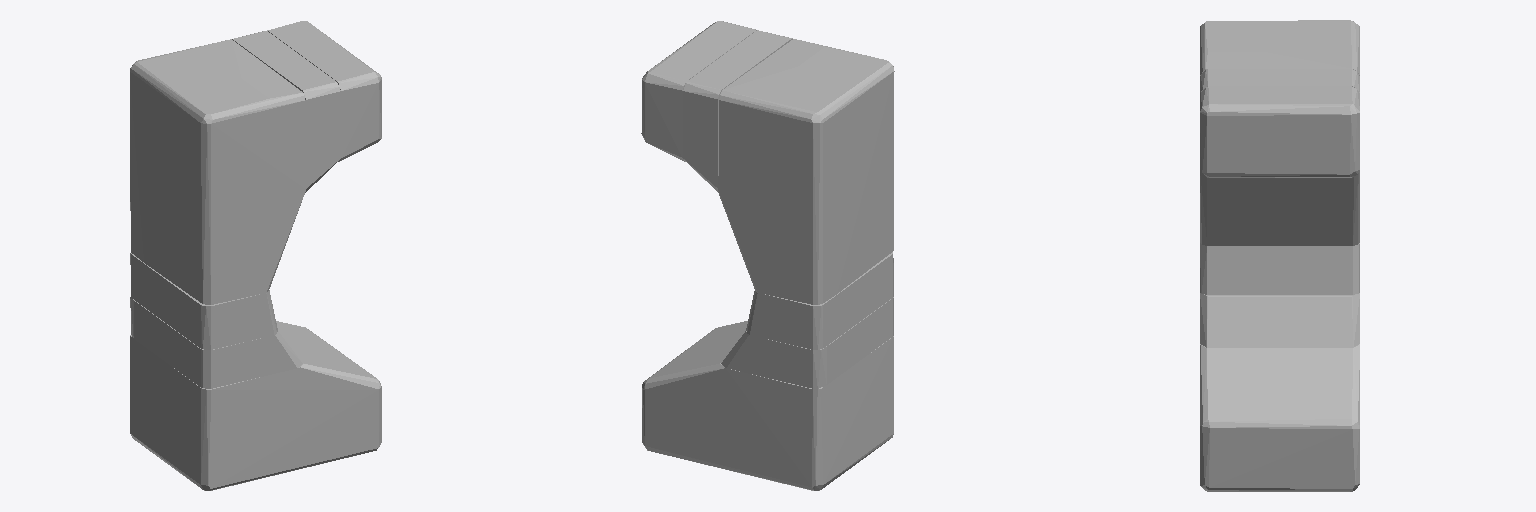
robot.urdf — root:
<robot name="root">
  <link name="link_Bridge_convex_piece_0">
    <inertial>
      <origin xyz="0 0 0" rpy="0 0 0"/>
      <mass value="1.79E-02"/>
      <inertia ixx="6.03E-05" ixy="-7.40E-09" ixz="-3.32E-05" iyy="7.66E-05" iyz="-1.17E-08" izz="2.42E-05"/>
    </inertial>
    <visual>
      <origin xyz="0 0 0" rpy="0 0 0"/>
      <geometry>
        <mesh filename="Bridge_convex_piece_0.obj" scale="1.0000E+00 1.0000E+00 1.0000E+00"/>
      </geometry>
      <material name="">
        <color rgba="7.50E-01 7.50E-01 7.50E-01 1"/>
      </material>
    </visual>
    <collision>
      <origin xyz="0 0 0" rpy="0 0 0"/>
      <geometry>
        <mesh filename="Bridge_convex_piece_0.obj" scale="1.0000E+00 1.0000E+00 1.0000E+00"/>
      </geometry>
    </collision>
  </link>
  <link name="link_Bridge_convex_piece_1">
    <inertial>
      <origin xyz="0 0 0" rpy="0 0 0"/>
      <mass value="1.76E-02"/>
      <inertia ixx="5.33E-05" ixy="2.57E-10" ixz="-1.66E-05" iyy="5.54E-05" iyz="-5.81E-10" izz="9.88E-06"/>
    </inertial>
    <visual>
      <origin xyz="0 0 0" rpy="0 0 0"/>
      <geometry>
        <mesh filename="Bridge_convex_piece_1.obj" scale="1.0000E+00 1.0000E+00 1.0000E+00"/>
      </geometry>
      <material name="">
        <color rgba="7.50E-01 7.50E-01 7.50E-01 1"/>
      </material>
    </visual>
    <collision>
      <origin xyz="0 0 0" rpy="0 0 0"/>
      <geometry>
        <mesh filename="Bridge_convex_piece_1.obj" scale="1.0000E+00 1.0000E+00 1.0000E+00"/>
      </geometry>
    </collision>
  </link>
  <joint name="link_Bridge_convex_piece_1_joint" type="fixed">
    <origin xyz="0 0 0" rpy="0 0 0"/>
    <parent link="link_Bridge_convex_piece_0"/>
    <child link="link_Bridge_convex_piece_1"/>
  </joint>
  <link name="link_Bridge_convex_piece_2">
    <inertial>
      <origin xyz="0 0 0" rpy="0 0 0"/>
      <mass value="1.73E-02"/>
      <inertia ixx="5.53E-06" ixy="1.62E-10" ixz="-1.97E-06" iyy="5.88E-06" iyz="1.16E-09" izz="8.05E-06"/>
    </inertial>
    <visual>
      <origin xyz="0 0 0" rpy="0 0 0"/>
      <geometry>
        <mesh filename="Bridge_convex_piece_2.obj" scale="1.0000E+00 1.0000E+00 1.0000E+00"/>
      </geometry>
      <material name="">
        <color rgba="7.50E-01 7.50E-01 7.50E-01 1"/>
      </material>
    </visual>
    <collision>
      <origin xyz="0 0 0" rpy="0 0 0"/>
      <geometry>
        <mesh filename="Bridge_convex_piece_2.obj" scale="1.0000E+00 1.0000E+00 1.0000E+00"/>
      </geometry>
    </collision>
  </link>
  <joint name="link_Bridge_convex_piece_2_joint" type="fixed">
    <origin xyz="0 0 0" rpy="0 0 0"/>
    <parent link="link_Bridge_convex_piece_1"/>
    <child link="link_Bridge_convex_piece_2"/>
  </joint>
  <link name="link_Bridge_convex_piece_3">
    <inertial>
      <origin xyz="0 0 0" rpy="0 0 0"/>
      <mass value="1.88E-02"/>
      <inertia ixx="1.54E-05" ixy="4.90E-09" ixz="-4.46E-06" iyy="1.50E-05" iyz="5.38E-09" izz="7.98E-06"/>
    </inertial>
    <visual>
      <origin xyz="0 0 0" rpy="0 0 0"/>
      <geometry>
        <mesh filename="Bridge_convex_piece_3.obj" scale="1.0000E+00 1.0000E+00 1.0000E+00"/>
      </geometry>
      <material name="">
        <color rgba="7.50E-01 7.50E-01 7.50E-01 1"/>
      </material>
    </visual>
    <collision>
      <origin xyz="0 0 0" rpy="0 0 0"/>
      <geometry>
        <mesh filename="Bridge_convex_piece_3.obj" scale="1.0000E+00 1.0000E+00 1.0000E+00"/>
      </geometry>
    </collision>
  </link>
  <joint name="link_Bridge_convex_piece_3_joint" type="fixed">
    <origin xyz="0 0 0" rpy="0 0 0"/>
    <parent link="link_Bridge_convex_piece_2"/>
    <child link="link_Bridge_convex_piece_3"/>
  </joint>
  <link name="link_Bridge_convex_piece_4">
    <inertial>
      <origin xyz="0 0 0" rpy="0 0 0"/>
      <mass value="9.74E-02"/>
      <inertia ixx="1.88E-04" ixy="6.24E-08" ixz="2.94E-05" iyy="1.85E-04" iyz="-9.01E-08" izz="4.12E-05"/>
    </inertial>
    <visual>
      <origin xyz="0 0 0" rpy="0 0 0"/>
      <geometry>
        <mesh filename="Bridge_convex_piece_4.obj" scale="1.0000E+00 1.0000E+00 1.0000E+00"/>
      </geometry>
      <material name="">
        <color rgba="7.50E-01 7.50E-01 7.50E-01 1"/>
      </material>
    </visual>
    <collision>
      <origin xyz="0 0 0" rpy="0 0 0"/>
      <geometry>
        <mesh filename="Bridge_convex_piece_4.obj" scale="1.0000E+00 1.0000E+00 1.0000E+00"/>
      </geometry>
    </collision>
  </link>
  <joint name="link_Bridge_convex_piece_4_joint" type="fixed">
    <origin xyz="0 0 0" rpy="0 0 0"/>
    <parent link="link_Bridge_convex_piece_3"/>
    <child link="link_Bridge_convex_piece_4"/>
  </joint>
  <link name="link_Bridge_convex_piece_5">
    <inertial>
      <origin xyz="0 0 0" rpy="0 0 0"/>
      <mass value="9.56E-02"/>
      <inertia ixx="2.84E-04" ixy="-3.62E-08" ixz="2.90E-05" iyy="3.01E-04" iyz="2.95E-07" izz="5.97E-05"/>
    </inertial>
    <visual>
      <origin xyz="0 0 0" rpy="0 0 0"/>
      <geometry>
        <mesh filename="Bridge_convex_piece_5.obj" scale="1.0000E+00 1.0000E+00 1.0000E+00"/>
      </geometry>
      <material name="">
        <color rgba="7.50E-01 7.50E-01 7.50E-01 1"/>
      </material>
    </visual>
    <collision>
      <origin xyz="0 0 0" rpy="0 0 0"/>
      <geometry>
        <mesh filename="Bridge_convex_piece_5.obj" scale="1.0000E+00 1.0000E+00 1.0000E+00"/>
      </geometry>
    </collision>
  </link>
  <joint name="link_Bridge_convex_piece_5_joint" type="fixed">
    <origin xyz="0 0 0" rpy="0 0 0"/>
    <parent link="link_Bridge_convex_piece_4"/>
    <child link="link_Bridge_convex_piece_5"/>
  </joint>
</robot>

--- Facts derived from the render (not from the file) ---
3 views of the same robot in one strip: view 1: azimuth 30°, elevation 25°; view 2: azimuth 150°, elevation 25°; view 3: azimuth 270°, elevation 25° (orthographic).
Model root with 6 links and 5 joints (5 fixed), rooted at link_Bridge_convex_piece_0, posed all joints at 0.
Links seen in each view (by area): view 1: link_Bridge_convex_piece_4, link_Bridge_convex_piece_5, link_Bridge_convex_piece_2, link_Bridge_convex_piece_3, link_Bridge_convex_piece_0, link_Bridge_convex_piece_1; view 2: link_Bridge_convex_piece_4, link_Bridge_convex_piece_5, link_Bridge_convex_piece_2, link_Bridge_convex_piece_3, link_Bridge_convex_piece_0, link_Bridge_convex_piece_1; view 3: link_Bridge_convex_piece_5, link_Bridge_convex_piece_4, link_Bridge_convex_piece_0, link_Bridge_convex_piece_3, link_Bridge_convex_piece_2, link_Bridge_convex_piece_1.
Boxes of the visible links, x1,y1,x2,y2 form: link_Bridge_convex_piece_4: [130, 39, 305, 304]; link_Bridge_convex_piece_5: [130, 321, 381, 490]; link_Bridge_convex_piece_2: [130, 253, 277, 349]; link_Bridge_convex_piece_3: [130, 297, 302, 388]; link_Bridge_convex_piece_0: [267, 21, 381, 161]; link_Bridge_convex_piece_1: [232, 31, 340, 192]; link_Bridge_convex_piece_4: [718, 39, 894, 304]; link_Bridge_convex_piece_5: [642, 321, 893, 490]; link_Bridge_convex_piece_2: [746, 252, 893, 349]; link_Bridge_convex_piece_3: [721, 297, 893, 388]; link_Bridge_convex_piece_0: [641, 21, 756, 161]; link_Bridge_convex_piece_1: [683, 30, 792, 191]; link_Bridge_convex_piece_5: [1200, 344, 1359, 491]; link_Bridge_convex_piece_4: [1200, 20, 1359, 245]; link_Bridge_convex_piece_0: [1200, 86, 1359, 177]; link_Bridge_convex_piece_3: [1200, 293, 1359, 347]; link_Bridge_convex_piece_2: [1200, 243, 1359, 294]; link_Bridge_convex_piece_1: [1200, 69, 1359, 92].
Size in the robot's own frame: 0.0696 by 0.0523 by 0.1389 metres.
6 mesh visuals loaded from 6 distinct referenced files (6 OBJ).
